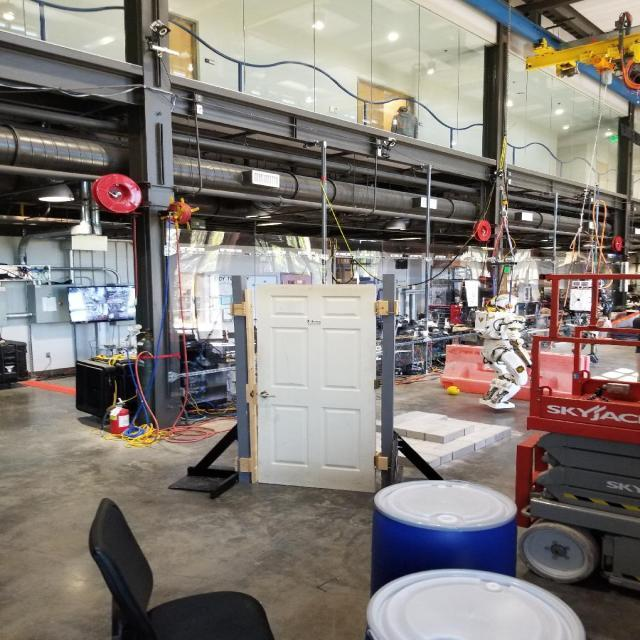door: (252, 280, 380, 496), (256, 390, 276, 399)
